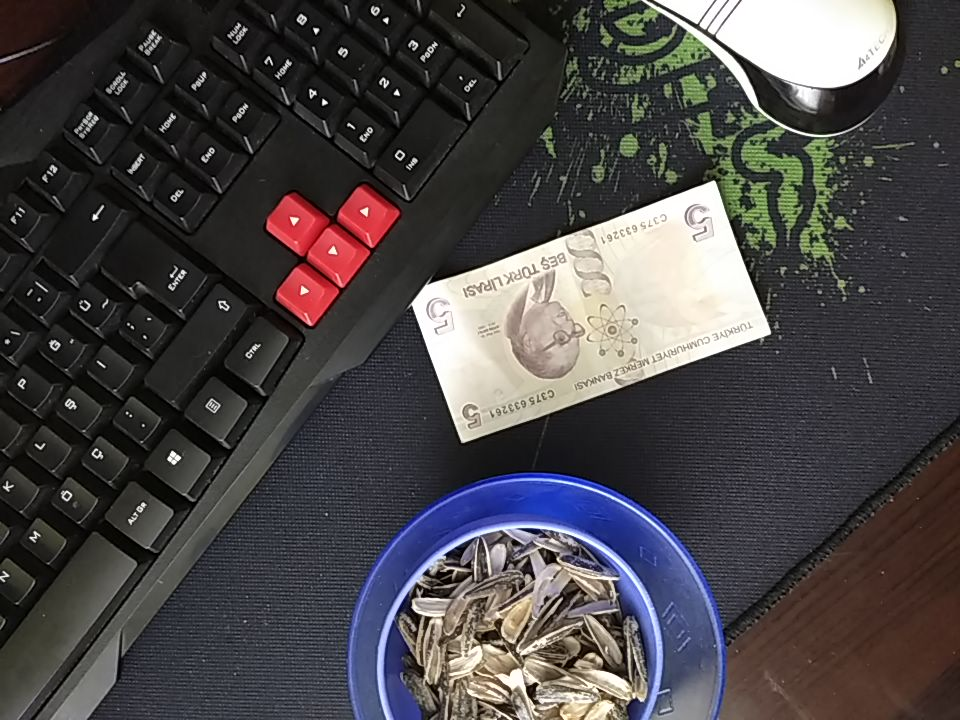5TL: (411, 178, 773, 444)
